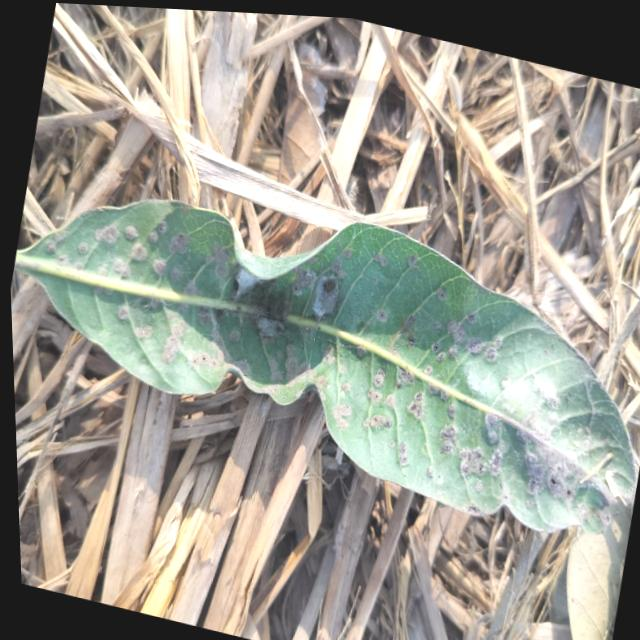gall midge: (316, 340, 553, 474)
